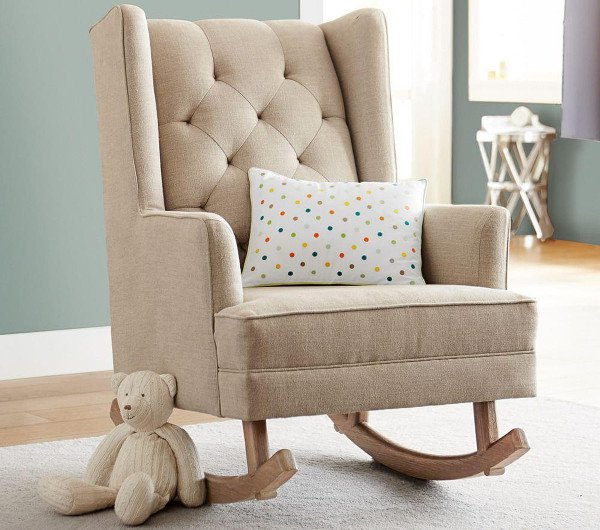chairs: (85, 2, 540, 501)
